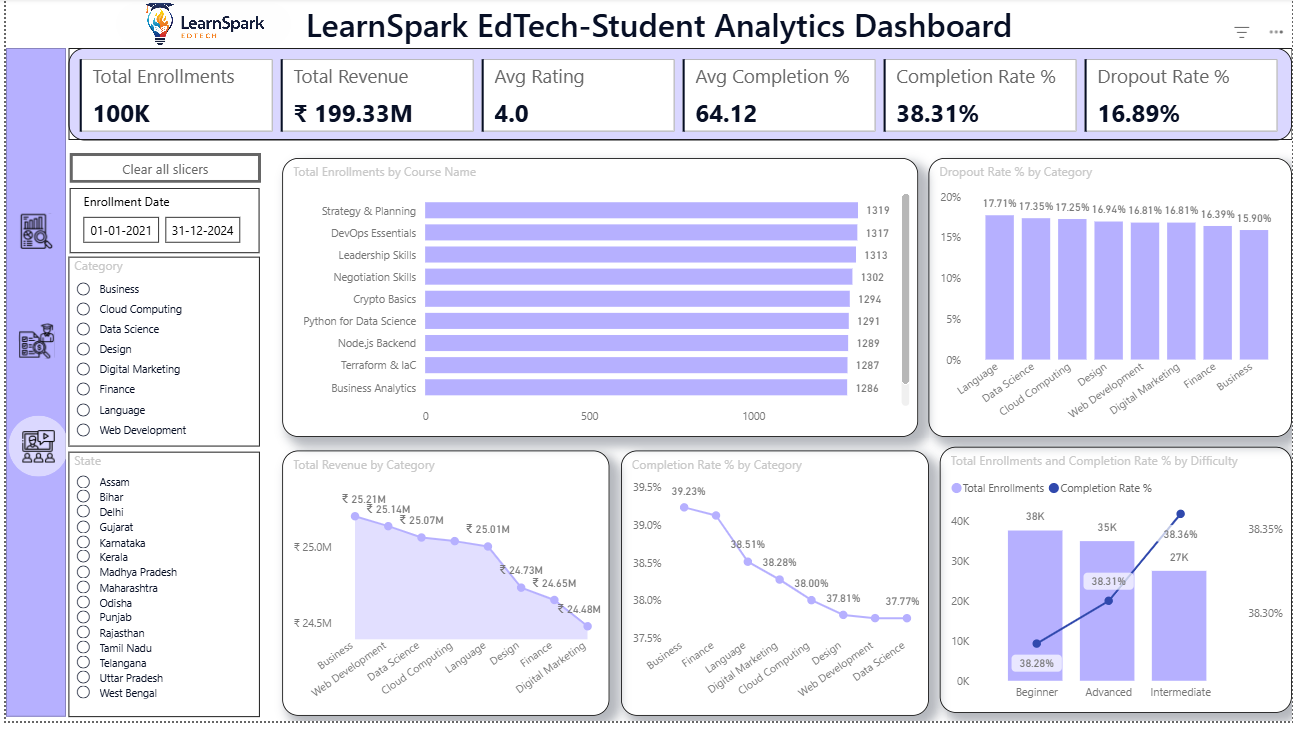

What the dashboard file says about the page in this screenshot:
{"tool":"powerbi","page":{"name":"Course & Instructor Performance","canvas":[1280,720],"ordinal":2},"visuals":[{"type":"cardVisual","fields":{"Data":["All Measures.Total Enrollments","All Measures.Total Revenue","All Measures.Avg Rating","All Measures.Avg Completion %","All Measures.Completion Rate %","All Measures.Dropout Rate %"]},"box":[62.1,50.3,1217.8,92.1],"z":0},{"type":"textbox","box":[31,0.5,1237.7,58.5],"z":1000},{"type":"listSlicer","fields":{"Values":["Courses.Category"]},"box":[62.1,258,190.3,189.1],"z":2000},{"type":"listSlicer","fields":{"Values":["Students.State"]},"box":[62.1,452.1,190.3,263.7],"z":3000},{"type":"lineChart","fields":{"Category":["Courses.Category"],"Y":["All Measures.Completion Rate %"]},"box":[611.9,450.8,306,263.7],"z":4000},{"type":"clusteredColumnChart","fields":{"Category":["Courses.Category"],"Y":["All Measures.Dropout Rate %"]},"box":[917.9,159.7,362,277.4],"z":5000},{"type":"areaChart","fields":{"Category":["Courses.Category"],"Y":["All Measures.Total Revenue"]},"box":[274.8,450.8,325.9,263.7],"z":6000},{"type":"clusteredBarChart","fields":{"Y":["All Measures.Total Enrollments"],"Category":["Courses.Course Name"]},"box":[274.8,159.7,633.2,277.4],"z":7000},{"type":"lineStackedColumnComboChart","fields":{"Category":["Courses.Difficulty"],"Y":["All Measures.Total Enrollments"],"Y2":["All Measures.Completion Rate %"]},"box":[929.1,447.1,350.8,265],"z":8000},{"type":"slicer","fields":{"Values":["Enrollments.Enrollment Date"]},"box":[63.3,189.6,189.1,64.7],"z":9000},{"type":"actionButton","box":[63.3,154.7,190.3,29.9],"z":10000},{"type":"shape","box":[0,49.8,59.7,665.5],"z":11000},{"type":"actionButton","box":[2.2,414.9,59.7,61],"z":12000},{"type":"actionButton","box":[0,311,62.2,61],"z":13000},{"type":"actionButton","box":[0,189.1,61,87.1],"z":14000},{"type":"image","box":[104.5,0,184.1,52.2],"z":15000}]}

Visuals, with their boxes on the page's 1280x720 design canvas (x1, y1, x2, y2). These are canvas units, not pixel positions in the 1293x730 screenshot, which may show the page scaled, cropped or inside an application window:
cardVisual - All Measures.Total Enrollments x All Measures.Total Revenue: <region>62, 50, 1280, 142</region>
textbox: <region>31, 0, 1269, 59</region>
listSlicer - Courses.Category: <region>62, 258, 252, 447</region>
listSlicer - Students.State: <region>62, 452, 252, 716</region>
lineChart - Courses.Category x All Measures.Completion Rate %: <region>612, 451, 918, 714</region>
clusteredColumnChart - Courses.Category x All Measures.Dropout Rate %: <region>918, 160, 1280, 437</region>
areaChart - Courses.Category x All Measures.Total Revenue: <region>275, 451, 601, 714</region>
clusteredBarChart - All Measures.Total Enrollments x Courses.Course Name: <region>275, 160, 908, 437</region>
lineStackedColumnComboChart - Courses.Difficulty x All Measures.Total Enrollments: <region>929, 447, 1280, 712</region>
slicer - Enrollments.Enrollment Date: <region>63, 190, 252, 254</region>
actionButton: <region>63, 155, 254, 185</region>
shape: <region>0, 50, 60, 715</region>
actionButton: <region>2, 415, 62, 476</region>
actionButton: <region>0, 311, 62, 372</region>
actionButton: <region>0, 189, 61, 276</region>
image: <region>104, 0, 289, 52</region>
